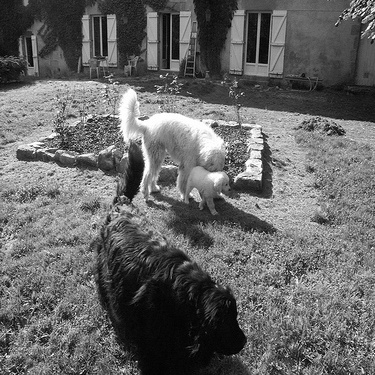dog: (74, 133, 249, 371), (108, 77, 236, 208), (176, 150, 235, 216)
